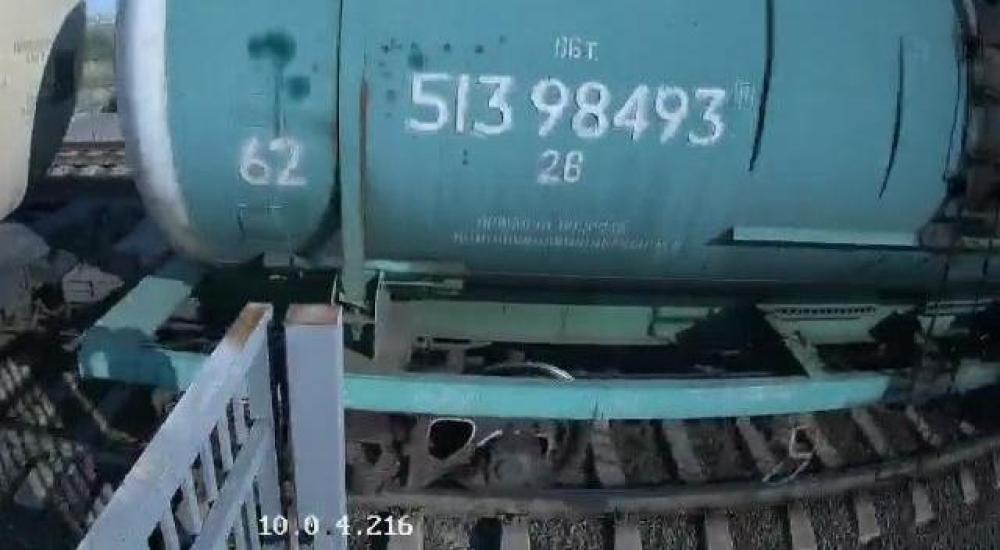Wagon-number: (402, 65, 732, 150)
